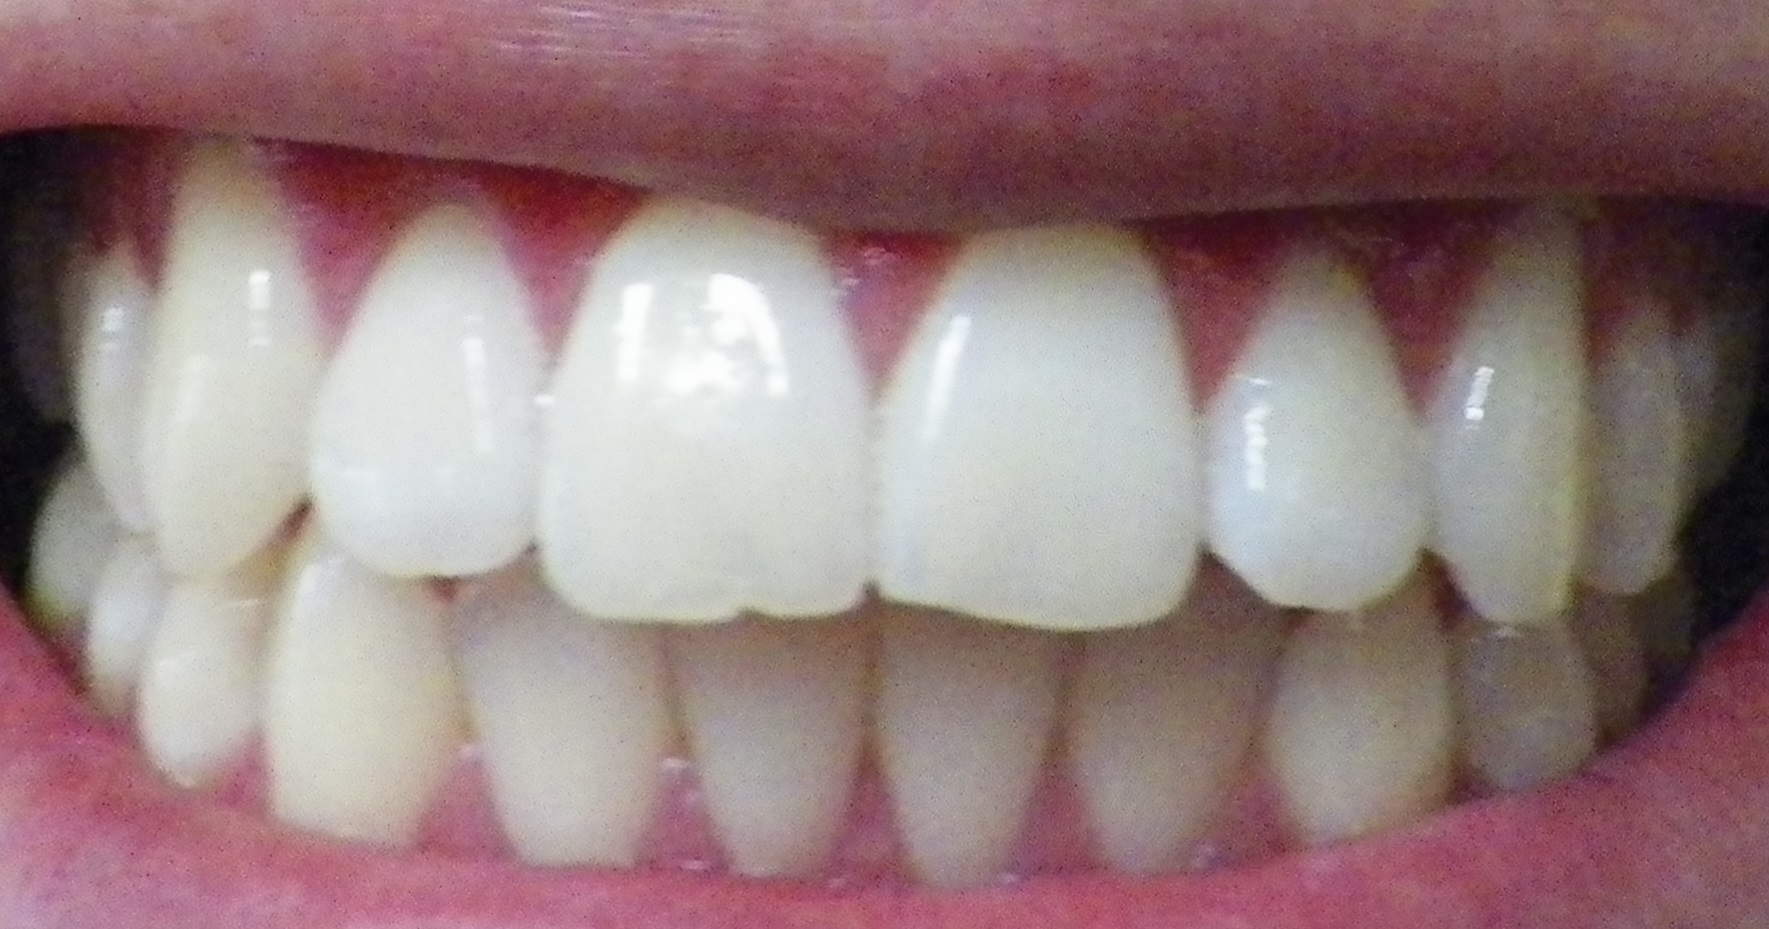boca: (18, 144, 1743, 862)
